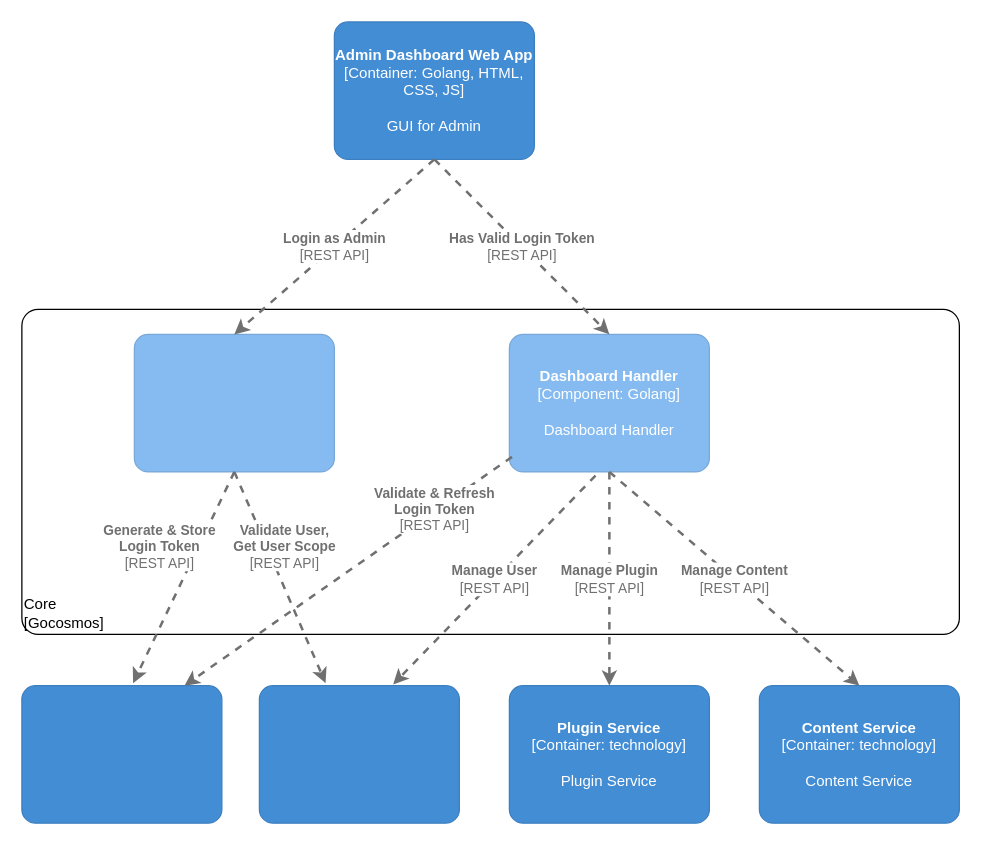
Some shapes in this 981 by 845 pixel diagram are drawn without their labels. Here are the shapes that lost their labels. From the top down, the centre of each, then its label:
point (233, 402): Login Handler [Component: Golang] Login Handler for all kind of User
point (121, 753): Token Service [Container: Golang] Token Service
point (358, 753): User Service [Container: Golang] User Service
